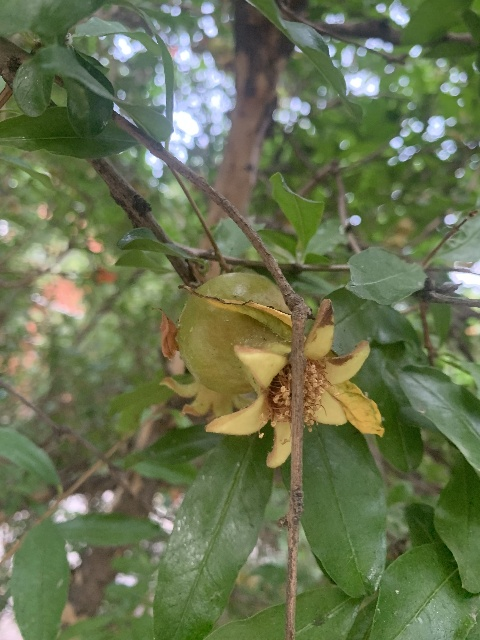mid-growth: (179, 271, 384, 467)
